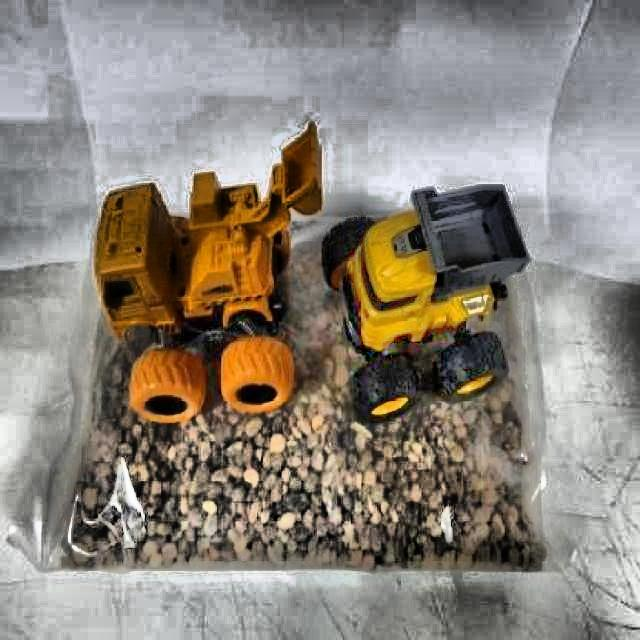dump_truck: (329, 166, 526, 432)
